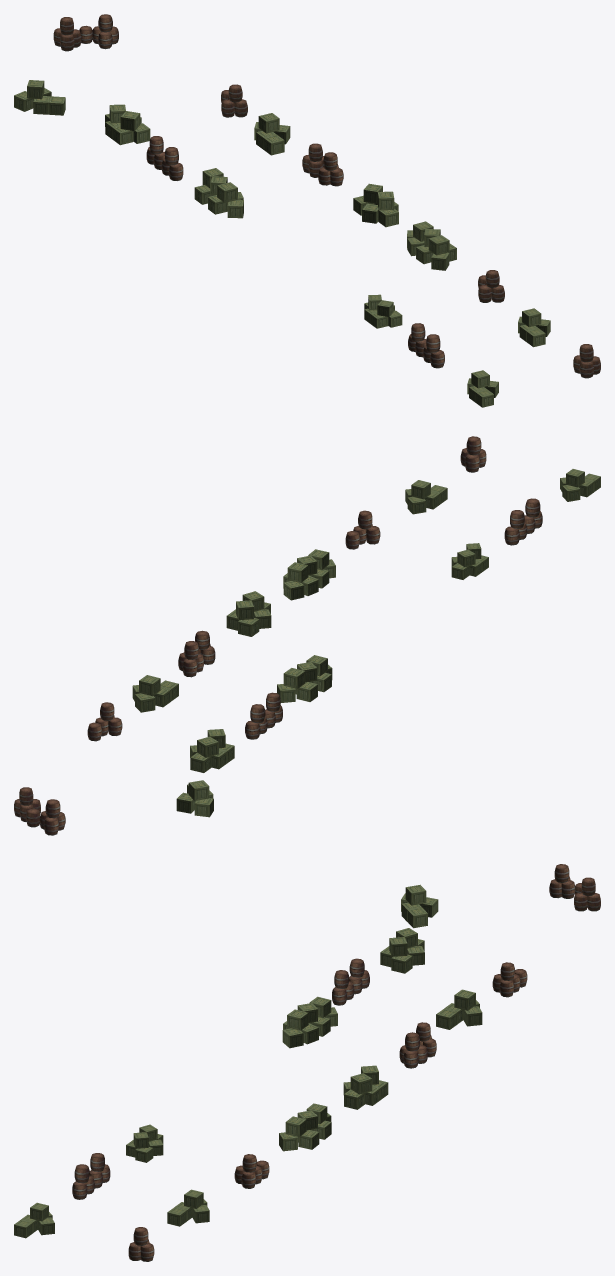
Rendered from wujian48.fbx.
The picture shows the model from 3 angles, top to bottom: view 1: azimuth 30°, elevation 25°; view 2: azimuth 150°, elevation 25°; view 3: azimuth 330°, elevation 25°; orthographic projection. The views are drawn at different scales.
Parts seen in each view (by area): view 1: wujian48; view 2: wujian48; view 3: wujian48.
Part boxes in pixels (x1=…): wujian48: x1=14, y1=14, x2=600, y2=407; wujian48: x1=14, y1=436, x2=600, y2=835; wujian48: x1=14, y1=864, x2=600, y2=1261.
Size of the model in its own units: 1622 by 239 by 7676.
1 material, 1 textured.
